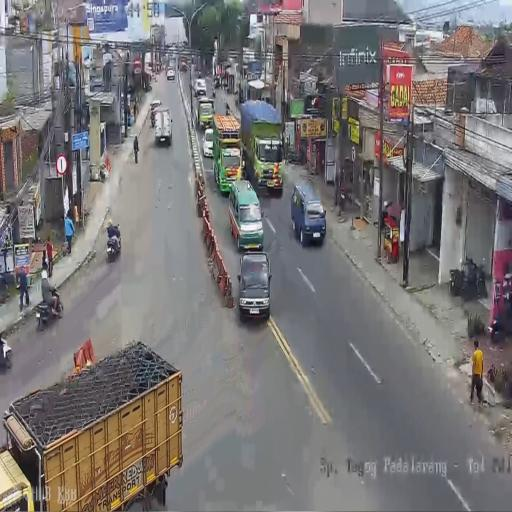car: (228, 180, 263, 250), (290, 179, 327, 245), (237, 252, 272, 320), (154, 107, 172, 146), (197, 97, 214, 130), (203, 127, 214, 158), (194, 78, 206, 96), (167, 67, 175, 80), (214, 75, 220, 89), (188, 63, 192, 72)
motorcycle: (490, 294, 512, 339), (286, 142, 304, 166), (212, 87, 216, 100)
truck: (241, 99, 283, 194), (212, 112, 243, 195), (179, 56, 188, 72)
